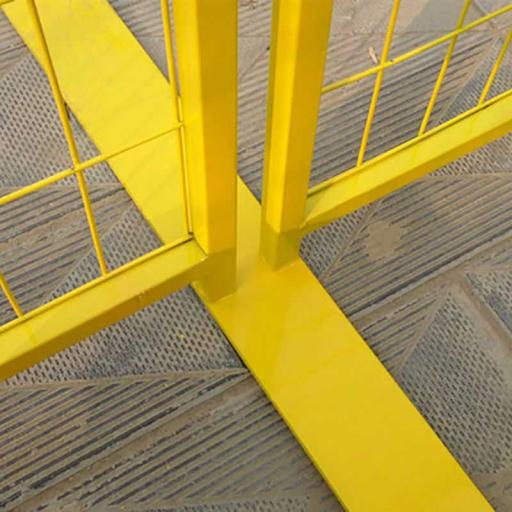chair: (0, 2, 512, 391)
